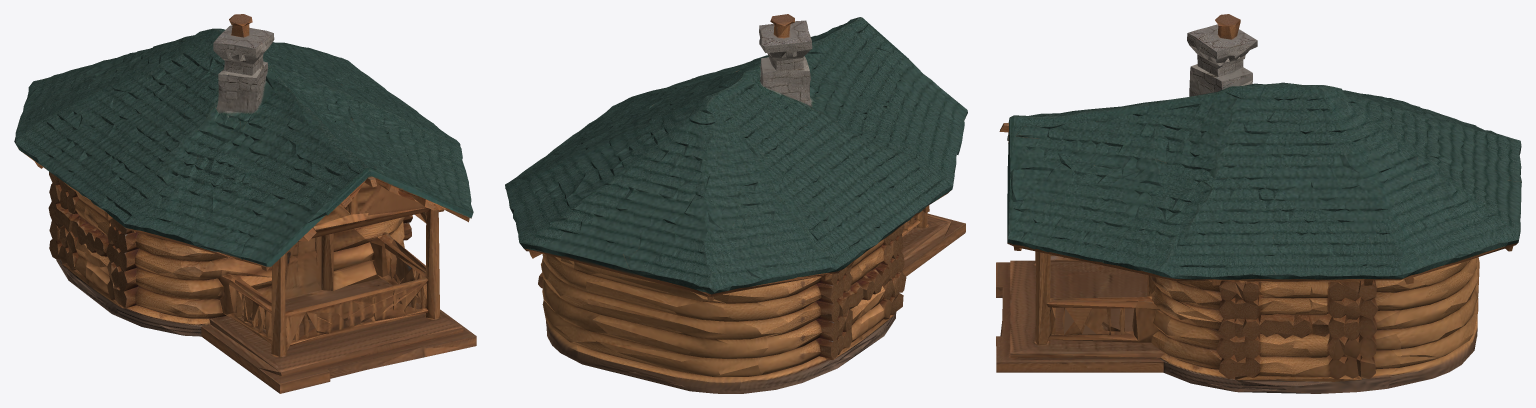
The model's file is ranger.glb.
3 views of the same model, side by side, from view 1: azimuth 30°, elevation 25°; view 2: azimuth 150°, elevation 25°; view 3: azimuth 270°, elevation 25° (orthographic). The views are drawn at different scales.
Bounding box in the file's own units: 1.47 × 1.16 × 1.9.
Materials: 1 (1 with a texture image).
